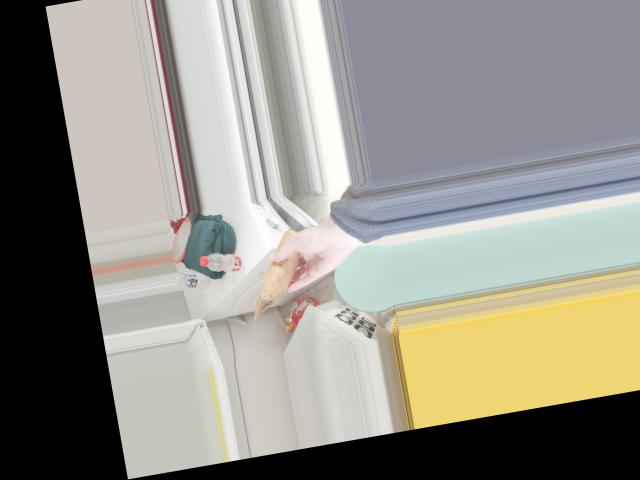sweet_potato: (260, 229, 313, 288)
